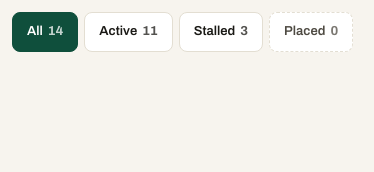
Test: FilterChips › keeps a zero-count chip clickable, at reduced emphasis
Click the button "Placed 0" at x=311, y=32, box [269,12,353,52]
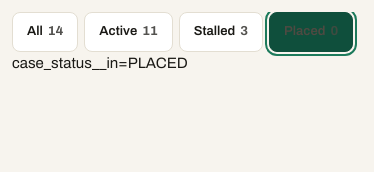
Now the text with test id "query" reads "case_status__in=PLACED", box [12,55,188,71]
